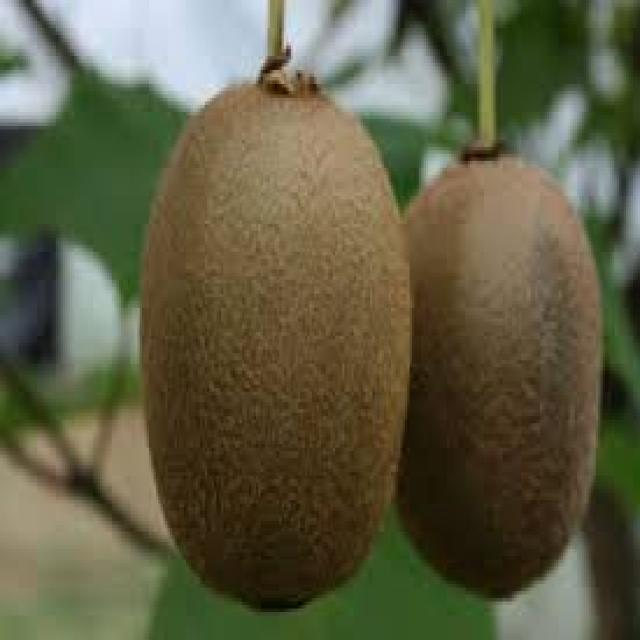kiwi: (143, 83, 412, 606), (405, 150, 600, 601)
